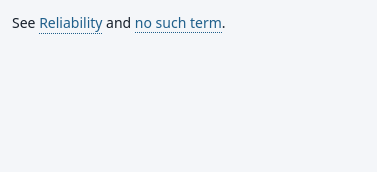
Scenario: InlineText › opens a glossary popover with the definition and a Reference link
Later steps or results of the test are not shown.
Click the button "Reliability": (71,23) top-left (39, 12), bottom-right (102, 34)
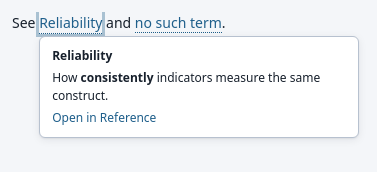
expect the button "Reliability" is expanded: met, box top-left (39, 12), bottom-right (102, 34)
expect the element that starts with "Reliability" shows "consistently": met, box top-left (81, 69), bottom-right (154, 86)
